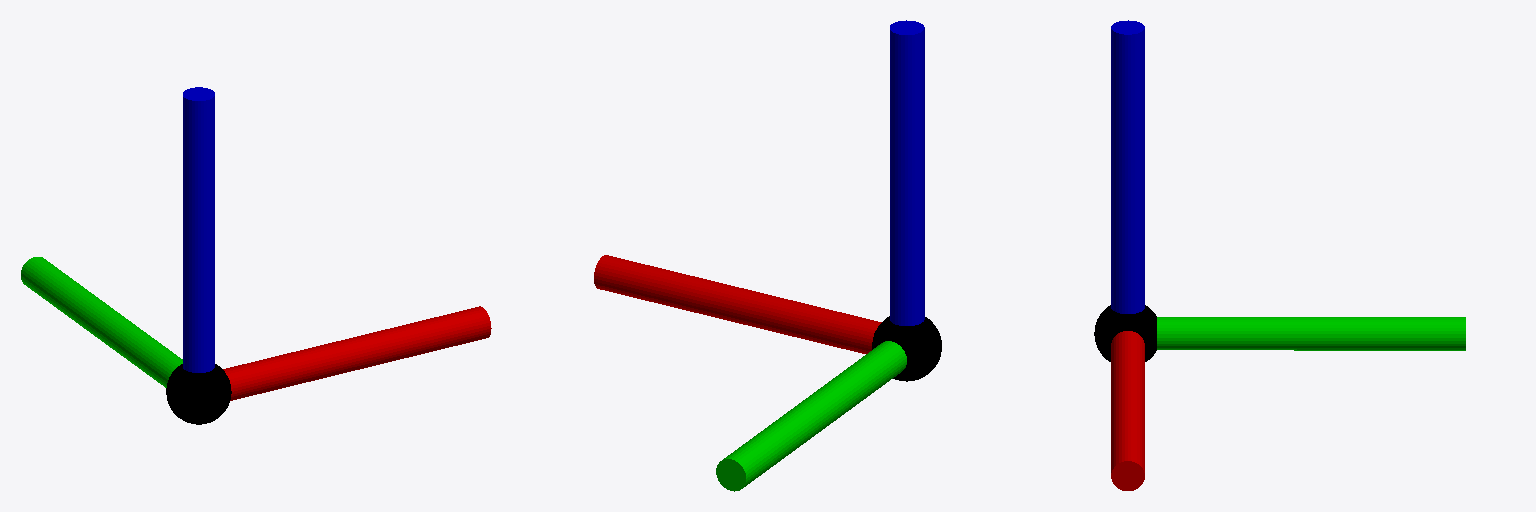
robot.urdf — frame:
<robot name="frame">
    <link name="link1">
        <inertial>
            <mass value="1" />
            <inertia ixx="0.01" ixy="0.0" ixz="0.0" iyy="0.01" iyz="0.0" izz="0.01" />
        </inertial>
        <visual>
            <geometry>
                <sphere radius="0.04"/>
            </geometry>
            <material name="black">
                <color rgba="0 0 0 1"/>
            </material>
        </visual>
        <visual>
            <origin rpy="0 1.57 0" xyz="0.2 0 0.0"/>
            <geometry>
                <cylinder length="0.4" radius="0.02"/>
            </geometry>
            <material name="red">
                <color rgba="0.8 0 0 1"/>
            </material>
        </visual>
        <visual>
            <origin rpy="1.57 0 0" xyz="0.0 0.2 0.0"/>
            <geometry>
                <cylinder length="0.4" radius="0.02"/>
            </geometry>
            <material name="green">
                <color rgba="0 0.8 0 1"/>
            </material>
        </visual>
        <visual>
            <origin rpy="0.0 0 0" xyz="0.0 0.0 0.2"/>
            <geometry>
                <cylinder length="0.4" radius="0.02"/>
            </geometry>
            <material name="blue">
                <color rgba="0 0 .8 1"/>
            </material>
        </visual>

    </link>
</robot>

--- Render facts (derived) ---
The picture shows the robot from 3 angles, left to right: view 1: azimuth 30°, elevation 25°; view 2: azimuth 150°, elevation 25°; view 3: azimuth 270°, elevation 25°; orthographic projection.
Model frame with 1 links and 0 joints (none), rooted at link1, posed all joints at 0.
Links seen in each view (by area): view 1: link1; view 2: link1; view 3: link1.
Boxes of the visible links, x1,y1,x2,y2 form: link1: (21,87,491,424); link1: (594,20,941,491); link1: (1094,20,1465,490).
Size in the robot's own frame: 0.44 by 0.44 by 0.44 metres.
Geometry: primitives only (box / cylinder / sphere), no mesh files.